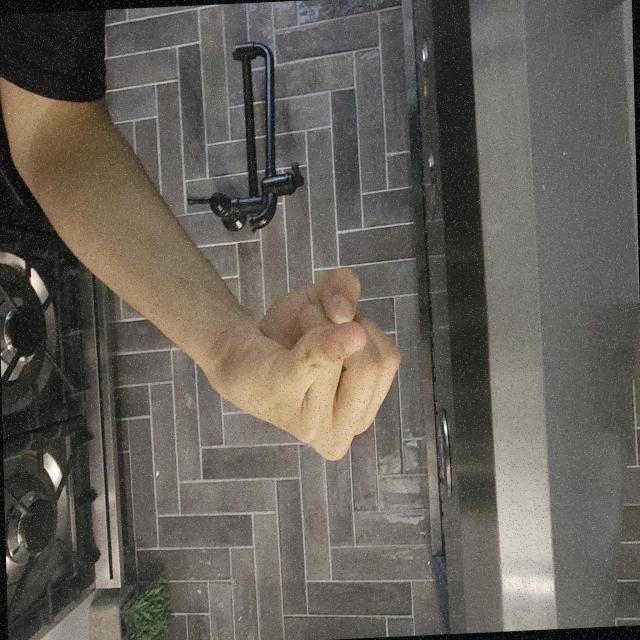J: (353, 304, 518, 597)
